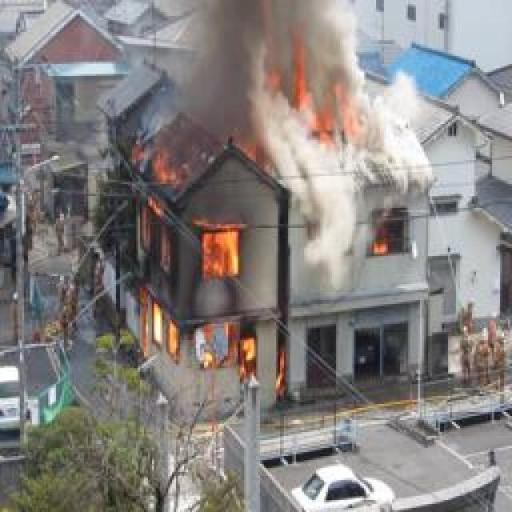smoke: (149, 122, 259, 369), (286, 56, 364, 142), (373, 236, 391, 258)
